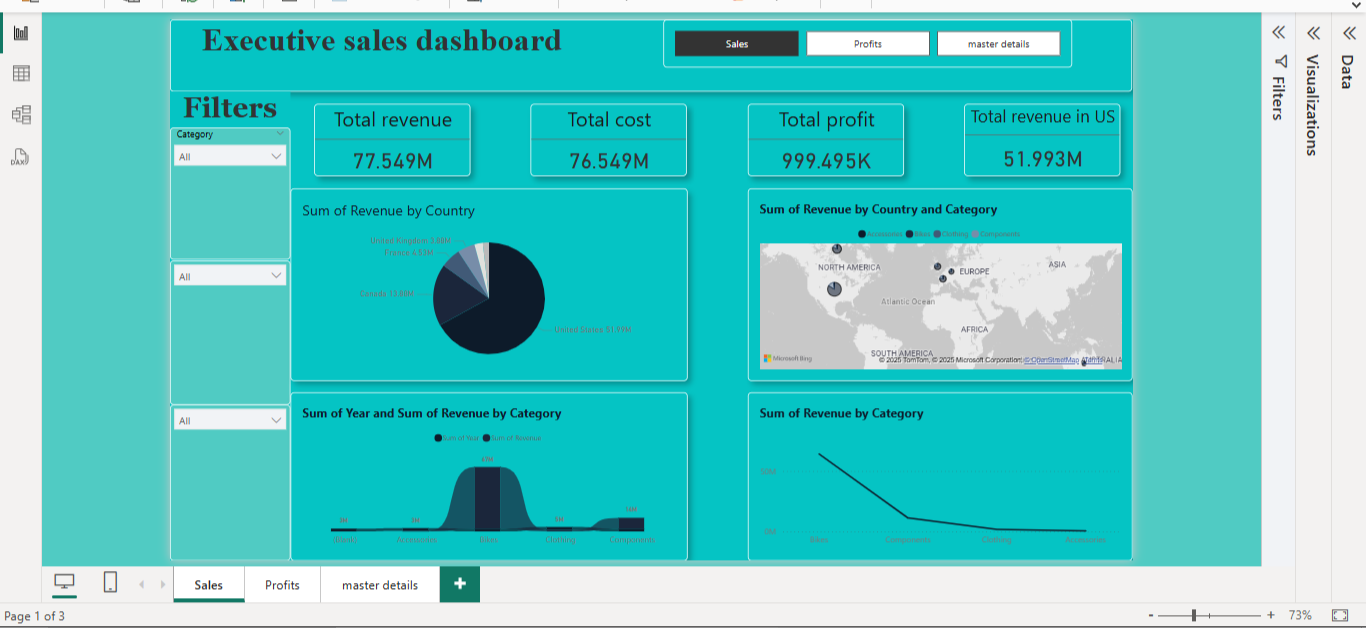

What the dashboard file says about the page in this screenshot:
{"tool":"powerbi","page":{"name":"Sales","canvas":[1280,720],"ordinal":0},"visuals":[{"type":"textbox","box":[0,0,1280,96],"z":0},{"type":"textbox","box":[0,64,160,656],"z":1000},{"type":"textbox","box":[0,96,160,112],"z":2000},{"type":"slicer","fields":{"Values":["Products.Category"]},"box":[0,144,160,176],"z":3000},{"type":"slicer","fields":{"Values":["Region.Country"]},"box":[0,320,160,192],"z":4000},{"type":"slicer","fields":{"Values":["Date.Year"]},"box":[0,512,160,208],"z":5000},{"type":"card","title":"Total revenue in US","fields":{"Values":["Sales.Total Revenue in US"]},"box":[1056,112,208,96],"z":6000},{"type":"card","title":"Total profit","fields":{"Values":["Sum(Sales.Profit)"]},"box":[768,112,208,96],"z":7000},{"type":"card","title":"Total cost","fields":{"Values":["Sum(Sales.Cost)"]},"box":[480,112,208,96],"z":8000},{"type":"card","title":"Total revenue","fields":{"Values":["Sum(Sales.Revenue)"]},"box":[192,112,208,96],"z":9000},{"type":"pieChart","fields":{"Y":["Sum(Sales.Revenue)"],"Category":["Region.Country"]},"box":[160,224,528,256],"z":10000},{"type":"map","fields":{"Size":["Sum(Sales.Revenue)"],"Category":["Region.Country"],"Series":["Products.Category"]},"box":[768,224,512,256],"z":11000},{"type":"ribbonChart","fields":{"Category":["Products.Category"],"Y":["Sum(Date.Year)","Sum(Sales.Revenue)"]},"box":[160,496,528,224],"z":12000},{"type":"lineChart","fields":{"Y":["Sum(Sales.Revenue)"],"Category":["Products.Category"]},"box":[768,496,512,224],"z":13000},{"type":"bookmarkNavigator","box":[0,0,600,50],"z":14000},{"type":"pageNavigator","box":[656,0,544,64],"z":15000}]}

Visuals, with their boxes on the page's 1280x720 design canvas (x1, y1, x2, y2). These are canvas units, not pixel positions in the 1366x628 screenshot, which may show the page scaled, cropped or inside an application window:
textbox: (0,0,1280,96)
textbox: (0,64,160,720)
textbox: (0,96,160,208)
slicer - Products.Category: (0,144,160,320)
slicer - Region.Country: (0,320,160,512)
slicer - Date.Year: (0,512,160,720)
"Total revenue in US" card: (1056,112,1264,208)
"Total profit" card: (768,112,976,208)
"Total cost" card: (480,112,688,208)
"Total revenue" card: (192,112,400,208)
pieChart - Sum(Sales.Revenue) x Region.Country: (160,224,688,480)
map - Sum(Sales.Revenue) x Region.Country: (768,224,1280,480)
ribbonChart - Products.Category x Sum(Date.Year): (160,496,688,720)
lineChart - Sum(Sales.Revenue) x Products.Category: (768,496,1280,720)
bookmarkNavigator: (0,0,600,50)
pageNavigator: (656,0,1200,64)
